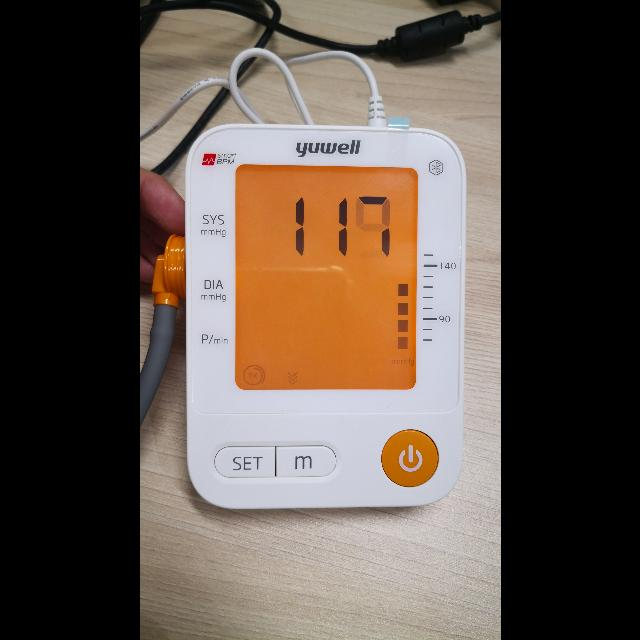Blood-Pressure-Monitor: (186, 125, 464, 508)
